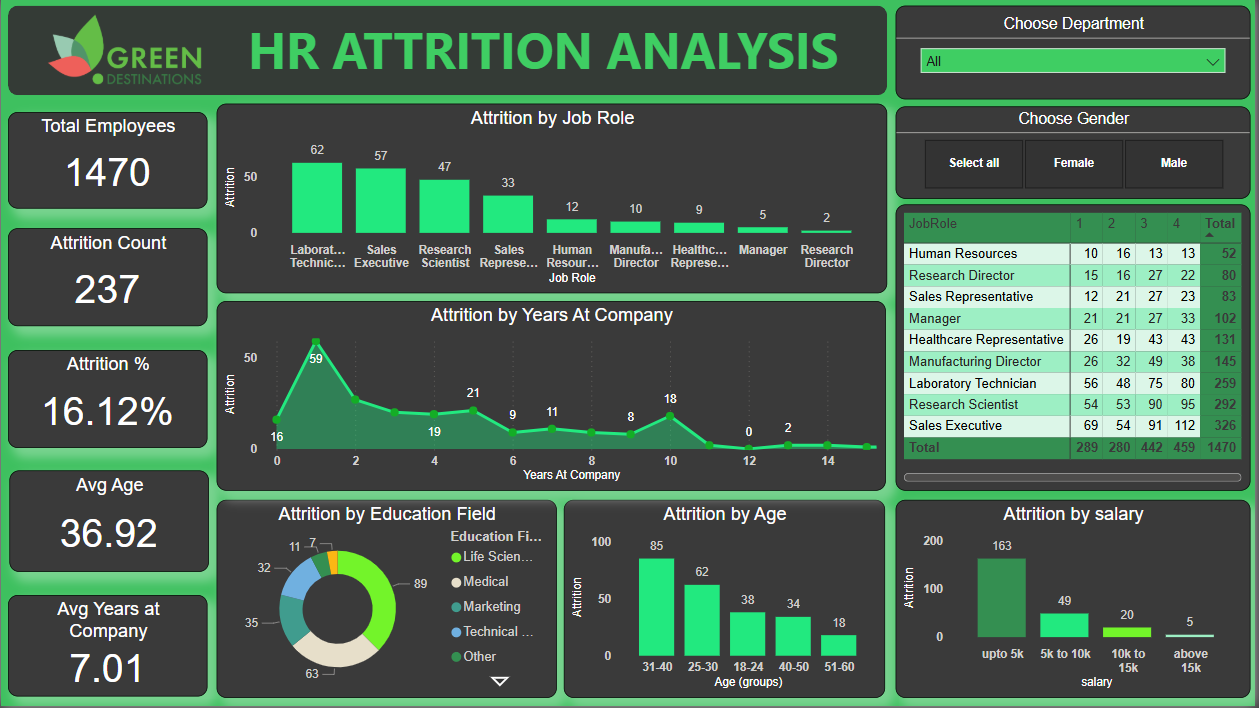

Layout of this report page (visuals, bound fields, positions):
{"tool":"powerbi","page":{"name":"Page 1","canvas":[1280,720],"ordinal":0},"visuals":[{"type":"card","title":"Attrition Count","fields":{"Values":["Sum(greendestination (1).Attrition_)"]},"box":[6.8,233.5,203.5,99.7],"z":0},{"type":"card","title":"Total Employees","fields":{"Values":["Sum(greendestination (1).EmployeeCount)"]},"box":[6.8,114.7,203.5,98.3],"z":1000},{"type":"card","title":"Attrition %","fields":{"Values":["Measure.Attrition %"]},"box":[6.8,356.4,203.5,99.7],"z":2000},{"type":"card","title":"Avg Age","fields":{"Values":["Avg(greendestination (1).Age)"]},"box":[8.2,480.7,203.5,103.8],"z":3000},{"type":"card","title":"Avg Years at Company","fields":{"Values":["Avg(greendestination (1).YearsAtCompany)"]},"box":[6.8,607.7,203.5,103.8],"z":4000},{"type":"donutChart","title":"Attrition by Education Field","fields":{"Category":["greendestination (1).EducationField"],"Y":["Sum(greendestination (1).Attrition_)"]},"box":[219.9,509.4,346.9,202.1],"z":5000},{"type":"clusteredColumnChart","title":"Attrition by Age","fields":{"Y":["Sum(greendestination (1).Attrition_)"],"Category":["greendestination (1).Age (groups)"]},"box":[574.9,509.4,327.8,202.1],"z":6000},{"type":"clusteredColumnChart","title":"Attrition by salary","fields":{"Y":["Sum(greendestination (1).Attrition_)"],"Category":["greendestination (1).salary_slab"]},"box":[912.3,509.4,361.9,202.1],"z":7000},{"type":"clusteredColumnChart","fields":{"Y":["Sum(greendestination (1).Attrition_)"],"Category":["greendestination (1).JobRole"]},"box":[219.9,105.2,684.2,193.9],"z":8000},{"type":"areaChart","fields":{"Y":["Sum(greendestination (1).Attrition_)"],"Category":["greendestination (1).YearsAtCompany"]},"box":[219.9,307.3,682.8,193.9],"z":9000},{"type":"pivotTable","fields":{"Rows":["greendestination (1).JobRole"],"Values":["Sum(greendestination (1).EmployeeCount)"],"Columns":["greendestination (1).JobSatisfaction"]},"box":[912.3,208.9,361.9,292.2],"z":10000},{"type":"slicer","title":"Choose Gender","fields":{"Values":["greendestination (1).Gender"]},"box":[912.3,107.9,361.9,94.2],"z":11000},{"type":"slicer","title":"Choose Department","fields":{"Values":["greendestination (1).Department"]},"box":[912.3,5.5,361.9,95.6],"z":13000},{"type":"shape","title":"HR ANALYSIS","box":[6.8,5.5,897.2,91.5],"z":14000},{"type":"image","box":[42.3,0,166.6,101.1],"z":14501}]}

Visuals, with their boxes in screenshot pixels (x1, y1, x2, y2), scaled from the page's 1280x720 canvas onto the 1259x708 screenshot:
"Attrition Count" card: bbox=[7, 230, 207, 328]
"Total Employees" card: bbox=[7, 113, 207, 209]
"Attrition %" card: bbox=[7, 350, 207, 448]
"Avg Age" card: bbox=[8, 473, 208, 575]
"Avg Years at Company" card: bbox=[7, 598, 207, 700]
"Attrition by Education Field" donutChart: bbox=[216, 501, 558, 700]
"Attrition by Age" clusteredColumnChart: bbox=[565, 501, 888, 700]
"Attrition by salary" clusteredColumnChart: bbox=[897, 501, 1253, 700]
clusteredColumnChart - Sum(greendestination (1).Attrition_) x greendestination (1).JobRole: bbox=[216, 103, 889, 294]
areaChart - Sum(greendestination (1).Attrition_) x greendestination (1).YearsAtCompany: bbox=[216, 302, 888, 493]
pivotTable - greendestination (1).JobRole x Sum(greendestination (1).EmployeeCount): bbox=[897, 205, 1253, 493]
"Choose Gender" slicer: bbox=[897, 106, 1253, 199]
"Choose Department" slicer: bbox=[897, 5, 1253, 99]
"HR ANALYSIS" shape: bbox=[7, 5, 889, 95]
image: bbox=[42, 0, 205, 99]
